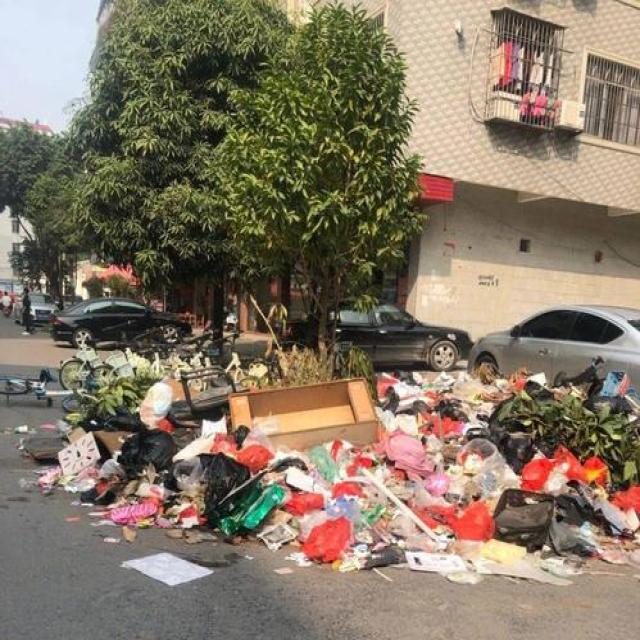garbage: (4, 348, 639, 585)
